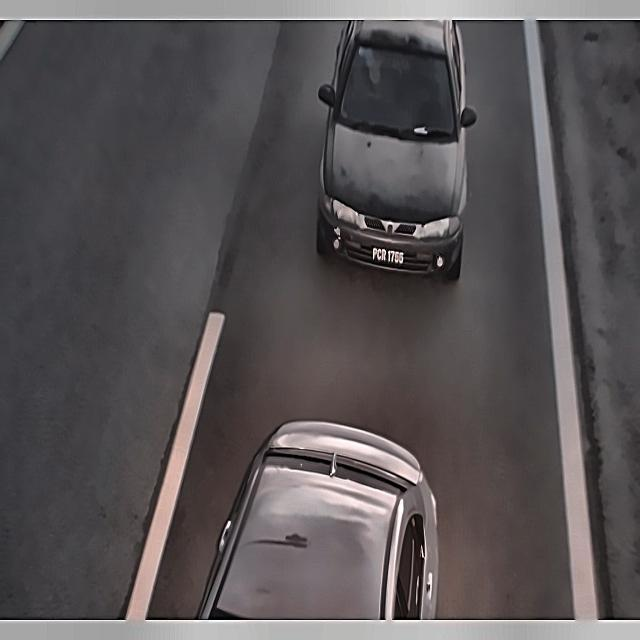car: (360, 241, 412, 270)
